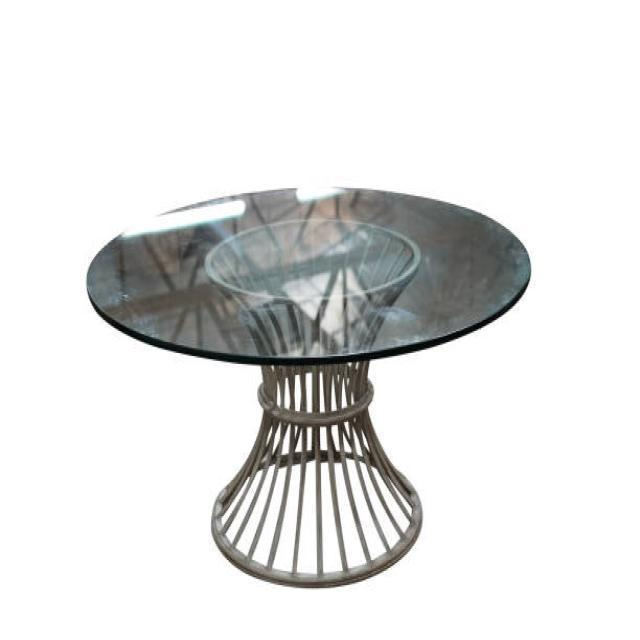table: (84, 184, 532, 588)
